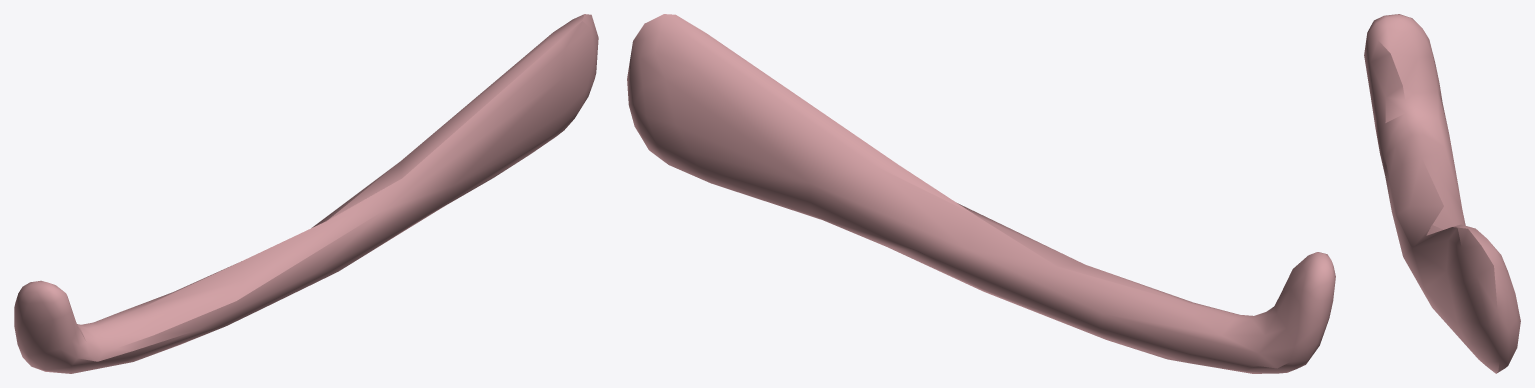
File: fma59576_mm2240m.glb
The picture shows the model from 3 angles, left to right: view 1: azimuth 30°, elevation 25°; view 2: azimuth 150°, elevation 25°; view 3: azimuth 270°, elevation 25°; orthographic projection. The views are drawn at different scales.
Parts seen in each view (by area): view 1: FMA59576_MM2240M; view 2: FMA59576_MM2240M; view 3: FMA59576_MM2240M.
Boxes of the visible parts, box(x1,y1,x2,y2) form: FMA59576_MM2240M: box(14, 14, 598, 373); FMA59576_MM2240M: box(627, 14, 1335, 373); FMA59576_MM2240M: box(1364, 14, 1520, 373).
Size of the model in its own units: 0.00567 by 0.00193 by 0.00102.
